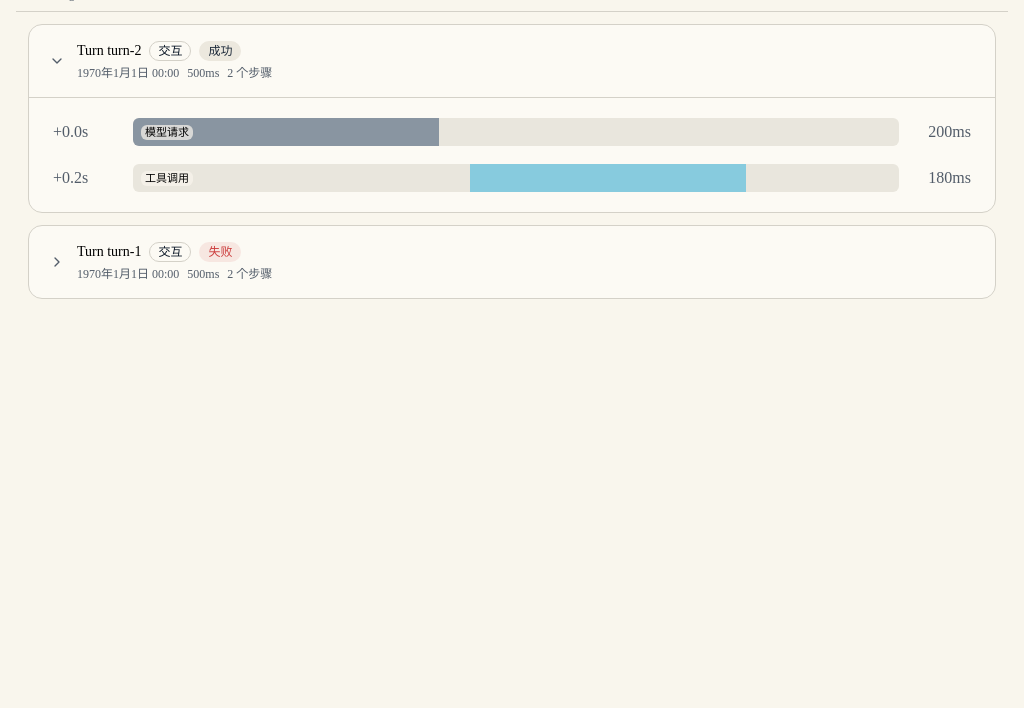
Test case: executionTracePanel › 连续选择步骤时忽略旧证据响应
Click the button "+0.0s 模型请求 200ms" at [512, 132], box [41,110,983,154]
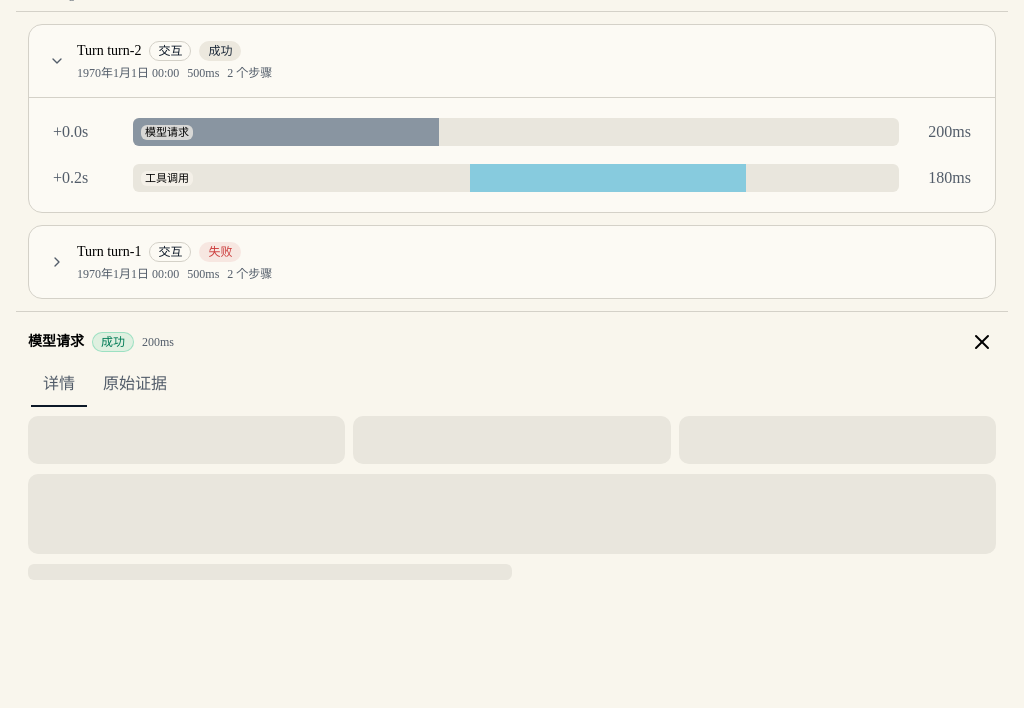
Click the button "+0.2s 工具调用 180ms" at [512, 178], box [41,156,983,200]
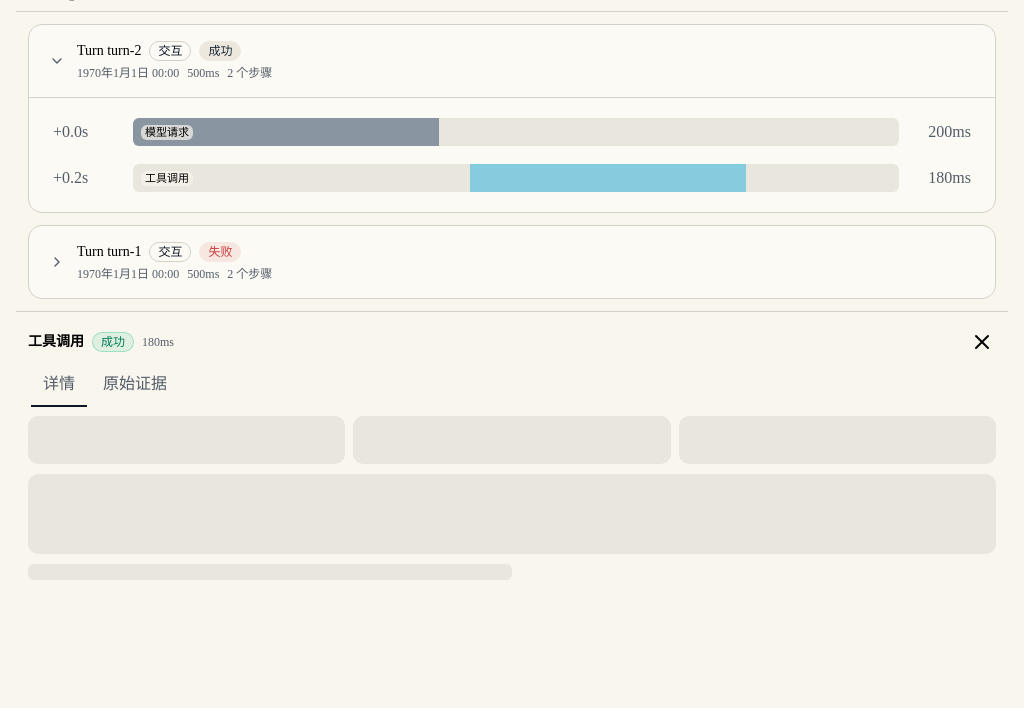
Click the tab "原始证据" at [135, 382], box [91,362,179,402]
(page scrolled)
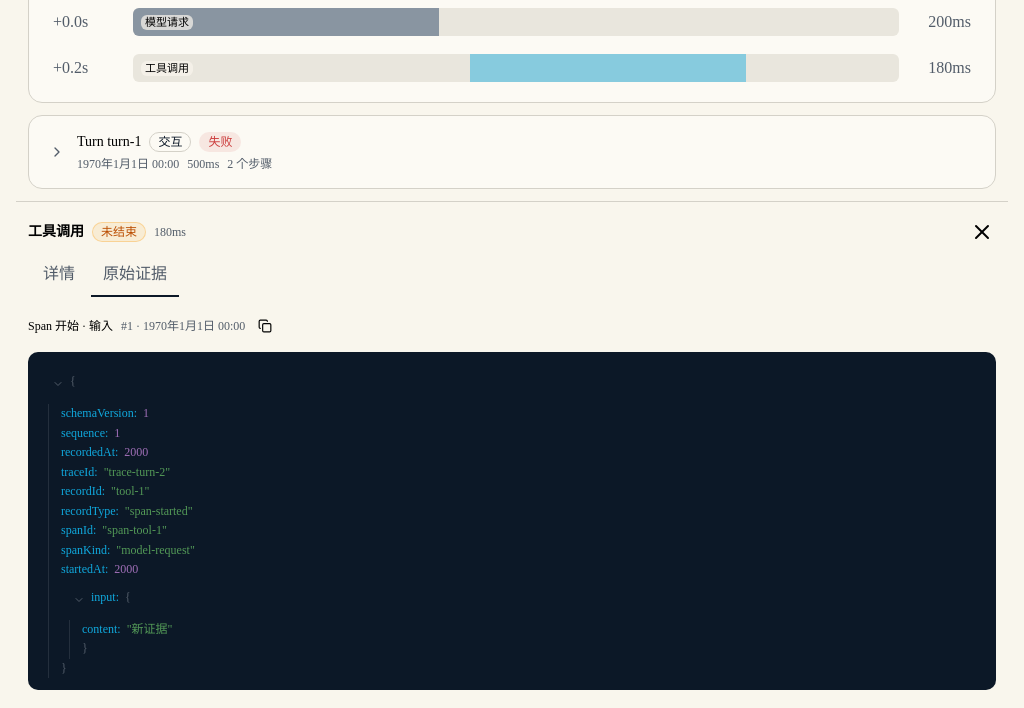
Expected: the text "\"新证据\"" is shown, [127,620,172,639]
